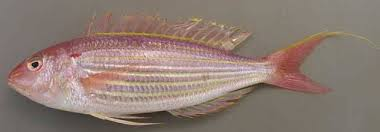Ikan Kerisi: (9, 31, 326, 114)
